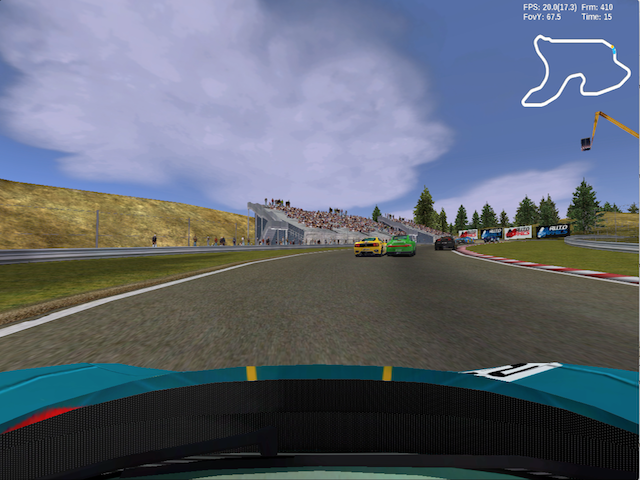Boxer96: (386, 236, 417, 256)
Cavallo360: (354, 237, 386, 257)
Spirit300: (433, 236, 458, 251)
